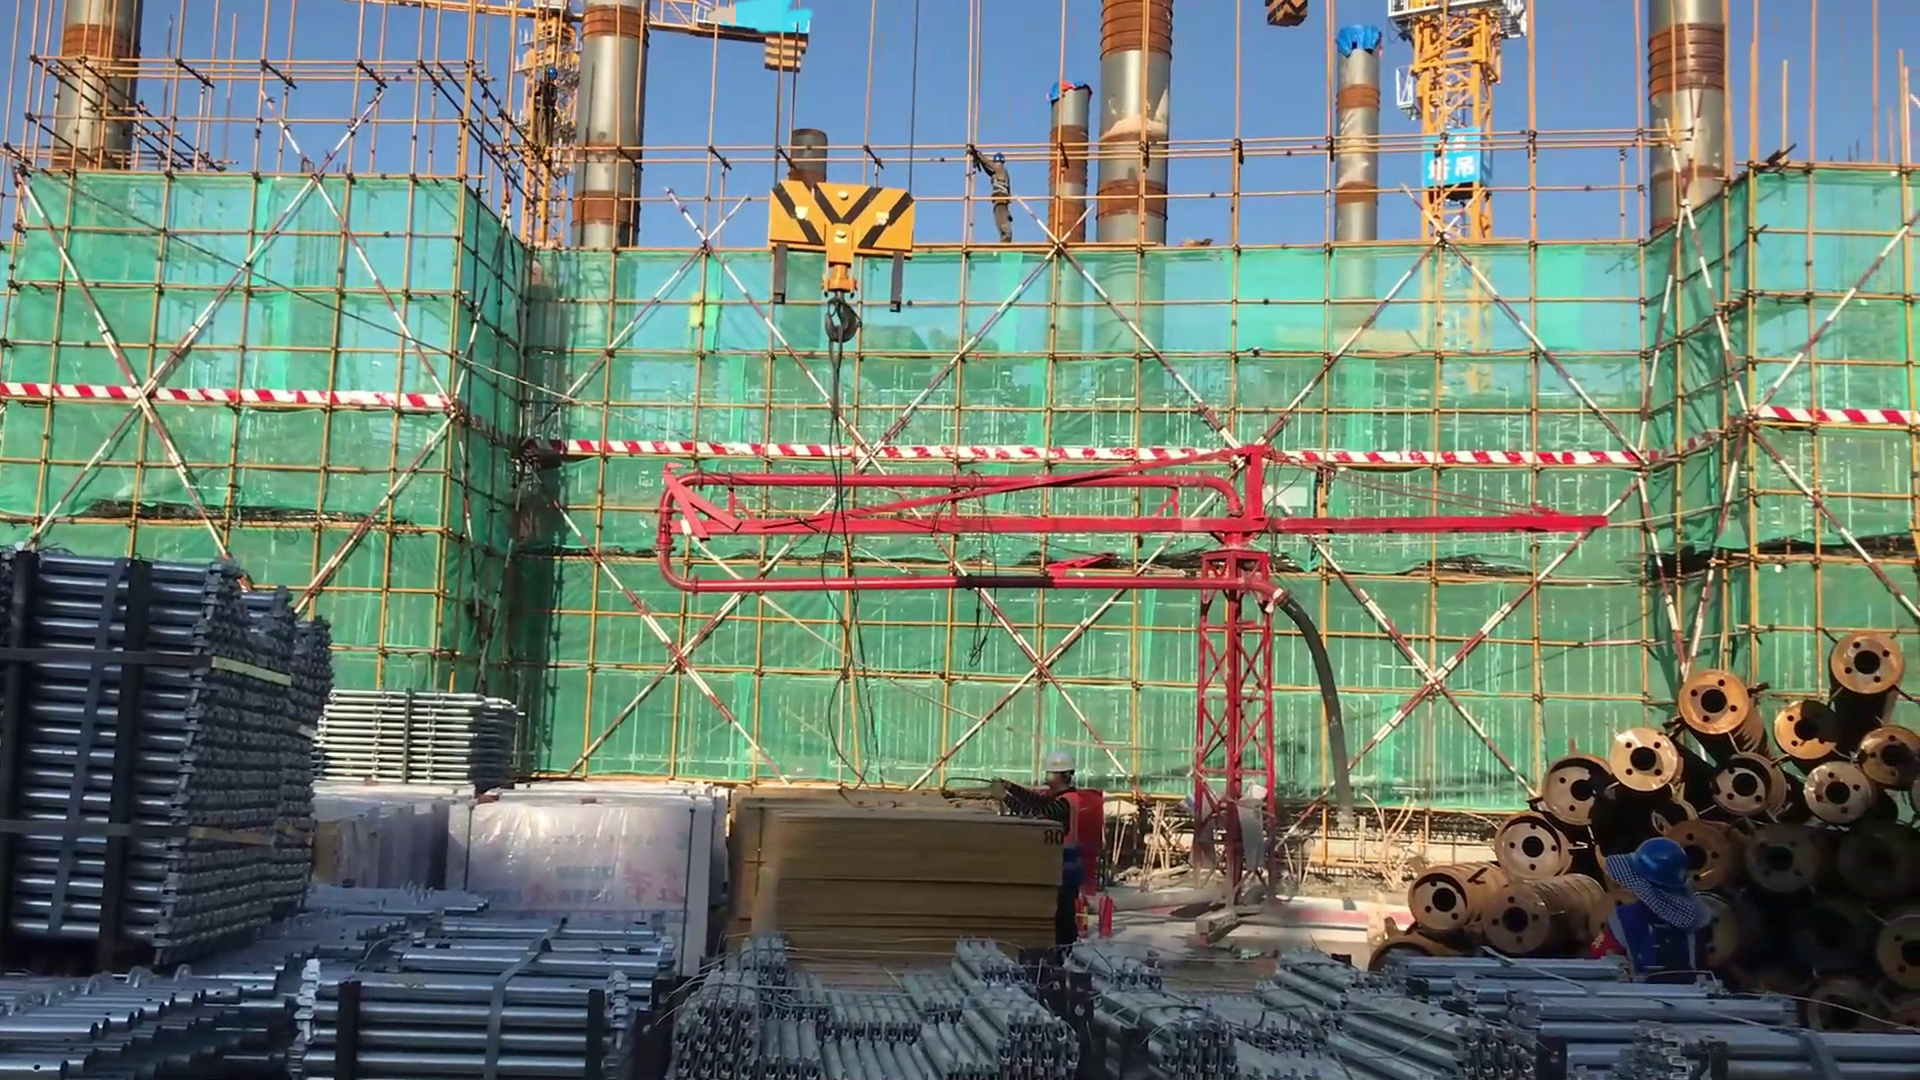board: (730, 781, 1058, 966)
helmet: (1625, 837, 1691, 888), (1036, 749, 1083, 784), (990, 149, 1006, 166)
hook: (765, 159, 923, 376)
person: (989, 752, 1099, 958), (1597, 834, 1711, 1012), (967, 139, 1026, 264)
scaffold: (1, 556, 341, 960), (1, 896, 456, 1079), (1391, 935, 1920, 1080), (307, 912, 690, 1080), (679, 930, 1085, 1080), (1093, 944, 1497, 1080), (315, 695, 534, 788)
slogan: (1422, 126, 1494, 199)
vest: (1605, 900, 1704, 990), (1048, 791, 1085, 879), (989, 171, 1013, 207)
